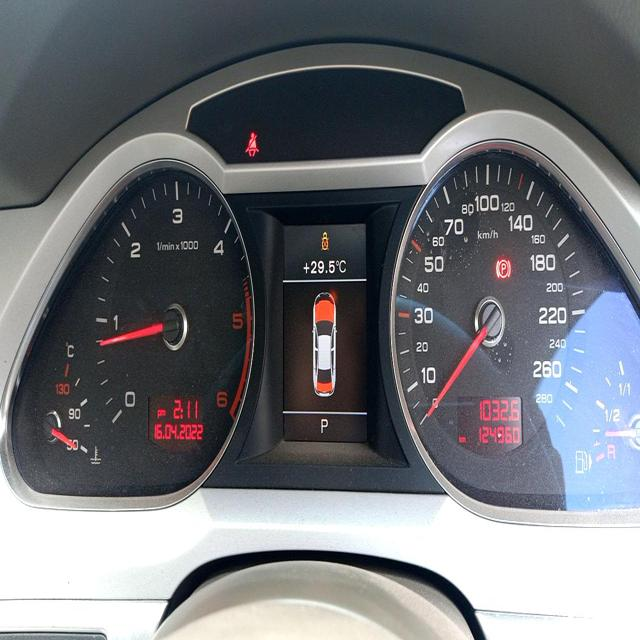odometer: (477, 423, 522, 447)
